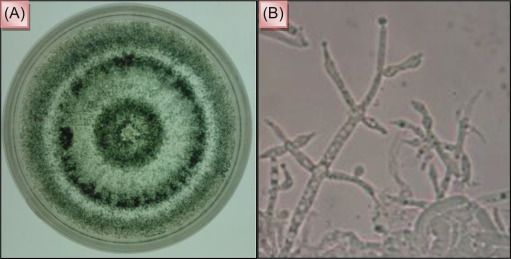Trichoderma: (39, 46, 211, 199)
